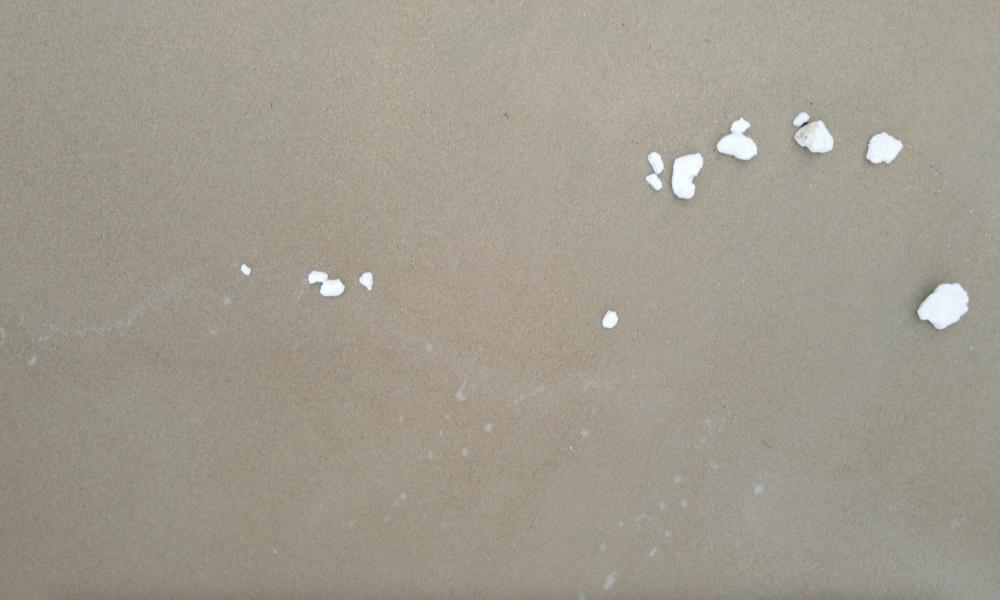styrofoam: (918, 281, 970, 331), (672, 151, 704, 203), (795, 120, 839, 157), (864, 132, 904, 165), (715, 133, 758, 161), (319, 279, 347, 298), (646, 150, 664, 174), (602, 308, 619, 329), (732, 114, 751, 132), (359, 271, 376, 291), (310, 269, 328, 285), (792, 109, 809, 125), (646, 176, 664, 191), (241, 265, 252, 275)
